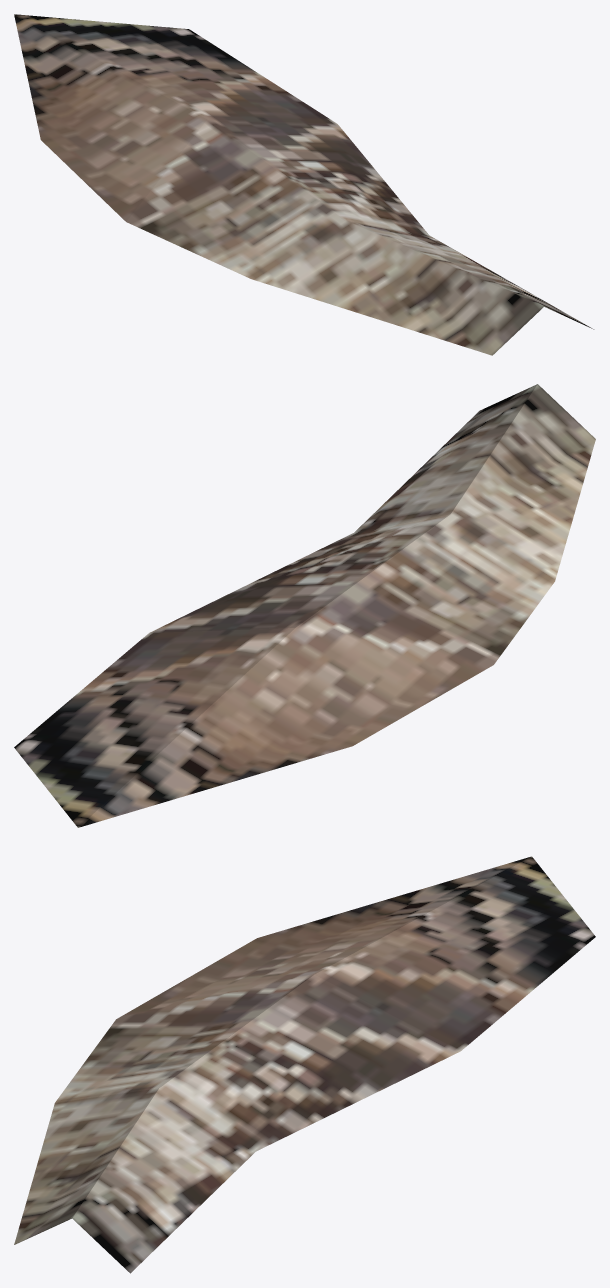
File: feather.glb
3 renders of one model, top to bottom at view 1: azimuth 30°, elevation 25°; view 2: azimuth 150°, elevation 25°; view 3: azimuth 330°, elevation 25°, orthographic. The views are drawn at different scales.
Parts seen in each view (by area): view 1: Plane; view 2: Plane; view 3: Plane.
Part boxes in pixels (x1,y1,x2,y2): Plane: (14,14,594,355); Plane: (14,384,595,827); Plane: (14,856,595,1273).
Bounding box in the file's own units: 0.7827 × 0.105 × 2.46.
Materials: 1 (1 with a texture image).
